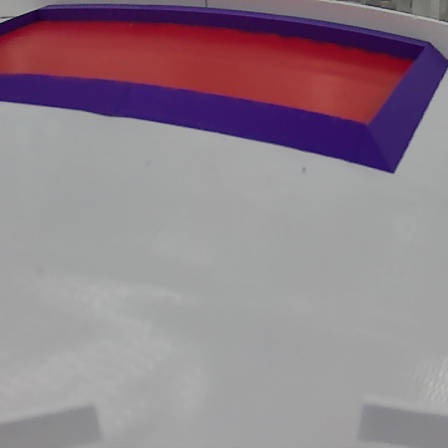red_aim: (1, 0, 448, 174)
